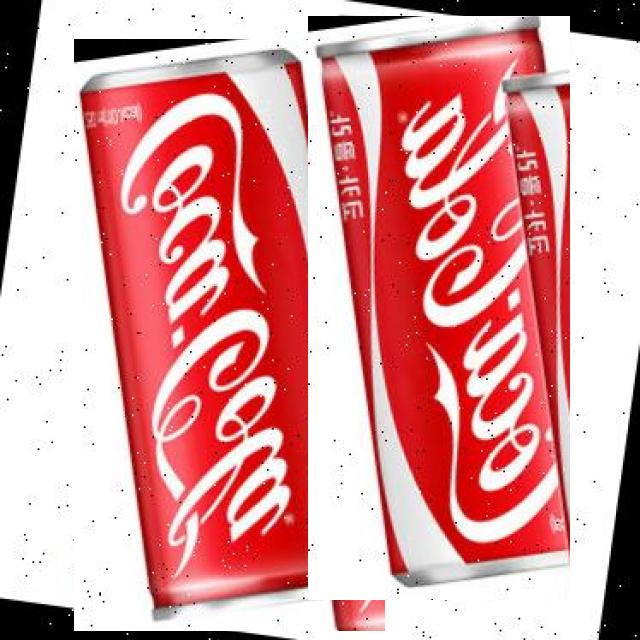coca-cola: (74, 39, 385, 632), (308, 16, 570, 600)
